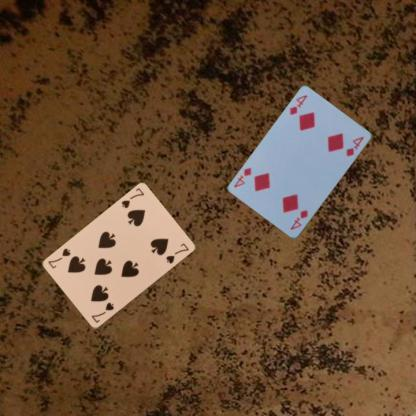4d: (287, 92, 309, 118), (287, 206, 309, 231)
7s: (118, 185, 145, 210), (88, 300, 115, 324)
